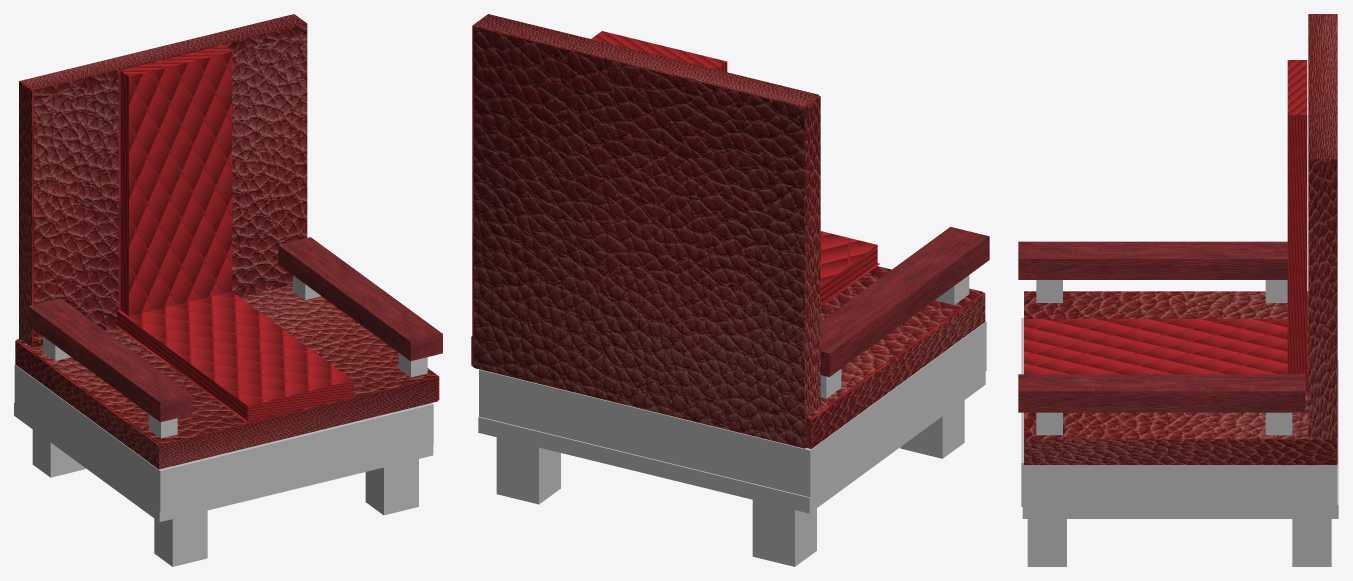
File: sofa.obj
3 renders of one model, left to right at view 1: azimuth 30°, elevation 25°; view 2: azimuth 150°, elevation 25°; view 3: azimuth 270°, elevation 25°, orthographic. The views are drawn at different scales.
Visible parts, largest first — view 1: pCube15; view 2: pCube15; view 3: pCube15.
Boxes of the visible parts, x1=… form: pCube15: x1=14, y1=14, x2=442, y2=566; pCube15: x1=471, y1=14, x2=989, y2=566; pCube15: x1=1018, y1=14, x2=1338, y2=566.
Size of the model in its own units: 2.67 by 3.48 by 2.42.
